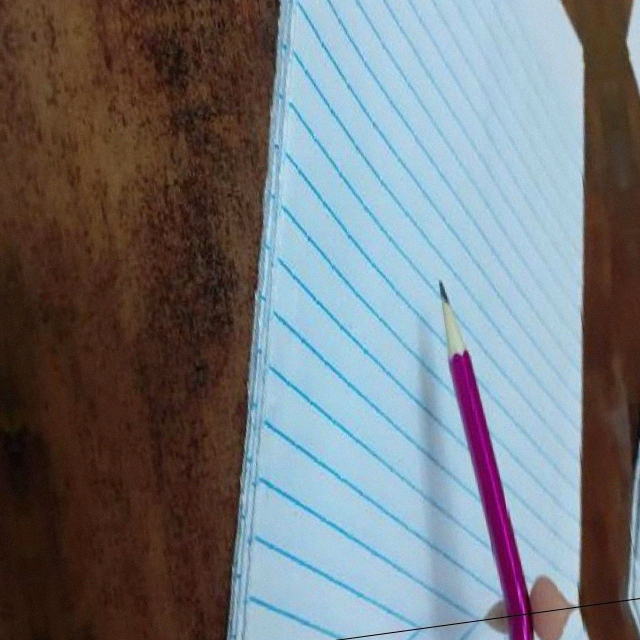pencil: (430, 275, 473, 357)
